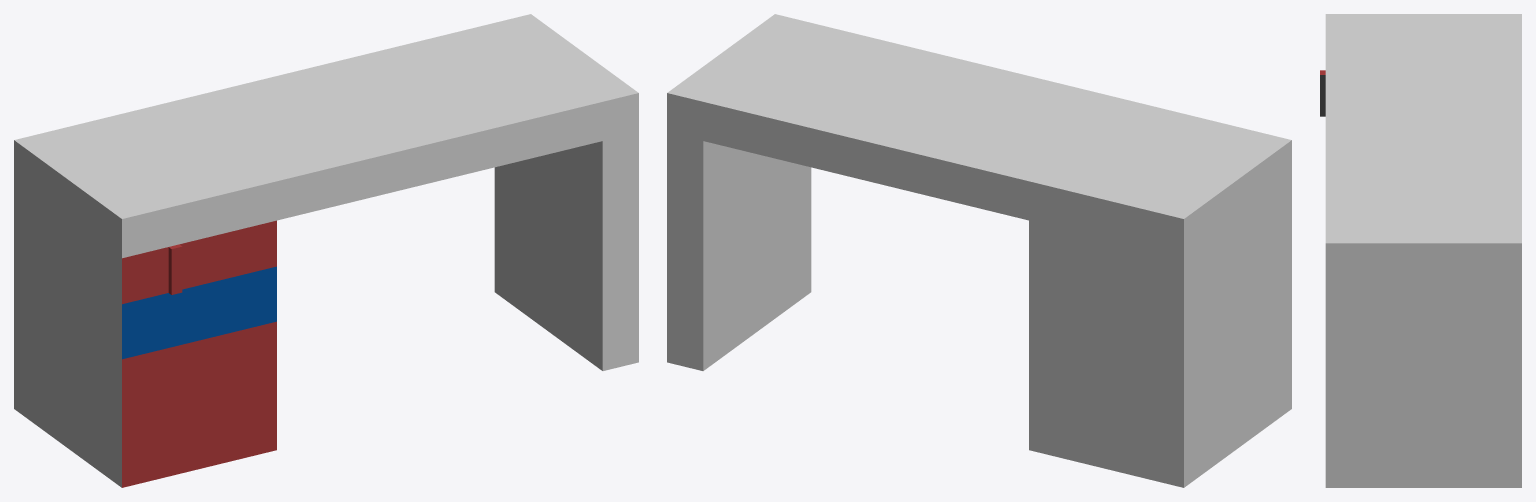
Rendered from Upgraded Table.fbx.
The picture shows the model from 3 angles, left to right: view 1: azimuth 30°, elevation 25°; view 2: azimuth 150°, elevation 25°; view 3: azimuth 270°, elevation 25°; orthographic projection. The views are drawn at different scales.
Parts seen in each view (by area): view 1: pCube3; view 2: pCube3; view 3: pCube3.
Part boxes in pixels (bbox=[...]): pCube3: bbox=[14, 14, 638, 487]; pCube3: bbox=[667, 14, 1291, 487]; pCube3: bbox=[1320, 14, 1521, 487].
Size of the model in its own units: 13.79 by 6.87 by 5.13.
